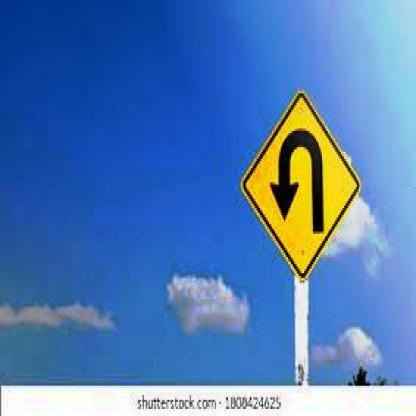U-turn: (242, 90, 361, 279)
